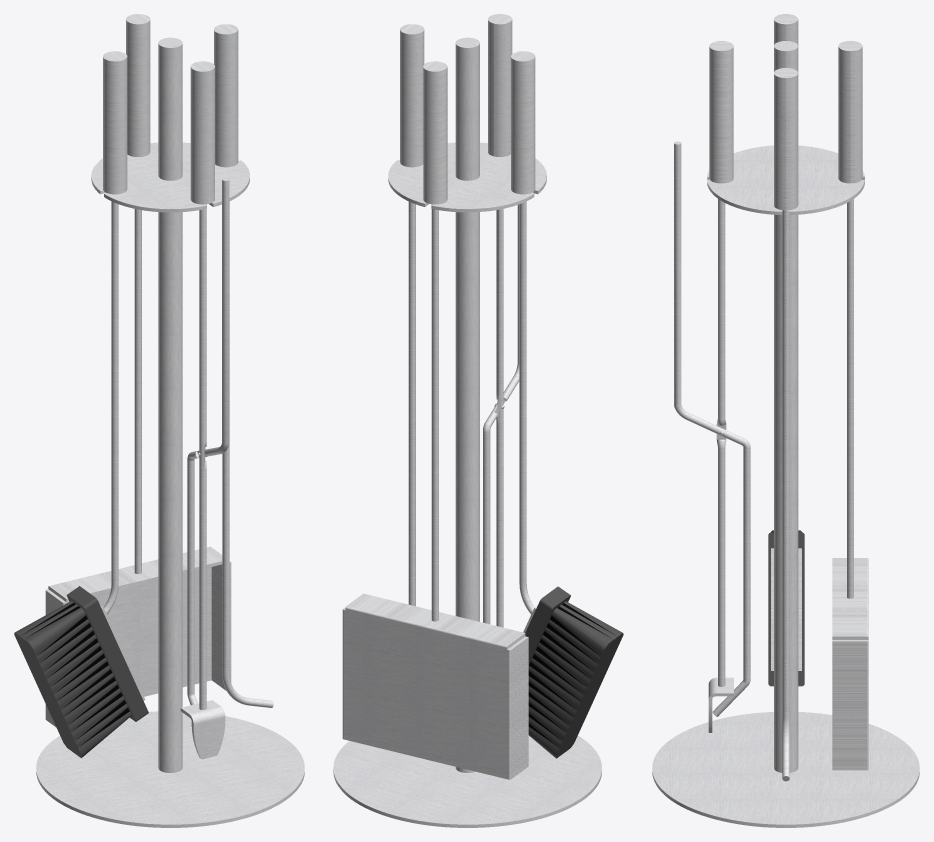
File: fireplaceTools.fbx
3 renders of one model, left to right at view 1: azimuth 30°, elevation 25°; view 2: azimuth 150°, elevation 25°; view 3: azimuth 270°, elevation 25°, orthographic.
Parts seen in each view (by area): view 1: fire_tools:polySurface1; view 2: fire_tools:polySurface1; view 3: fire_tools:polySurface1.
Boxes of the visible parts, bbox=[...] form: fire_tools:polySurface1: bbox=[14, 14, 304, 827]; fire_tools:polySurface1: bbox=[333, 14, 623, 827]; fire_tools:polySurface1: bbox=[652, 14, 919, 827].
Size of the model in its own units: 8.79 by 23.16 by 7.72.
Materials: 4 (1 with a texture image).
